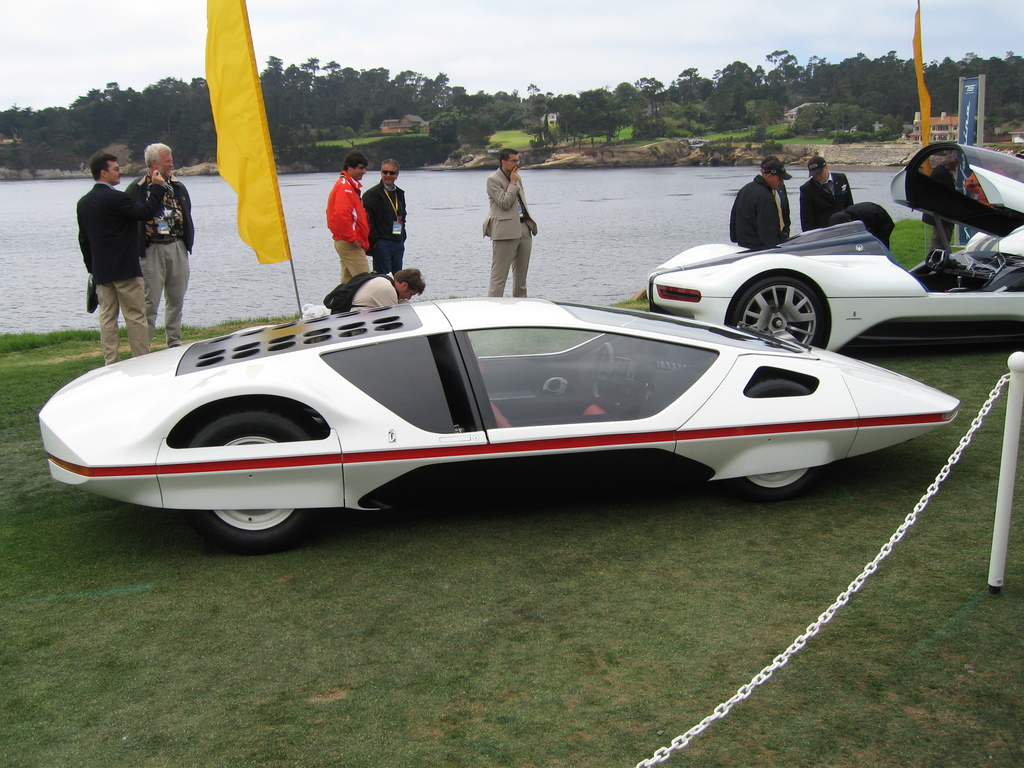Car: (35, 292, 967, 552), (643, 135, 1023, 350)
